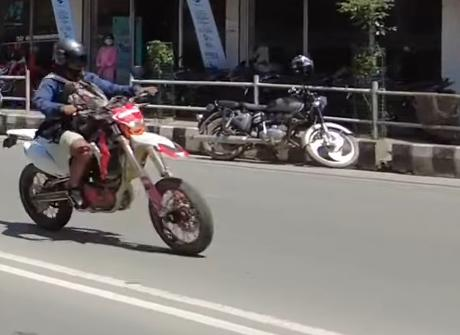bike: (5, 65, 219, 260), (188, 72, 362, 172)
